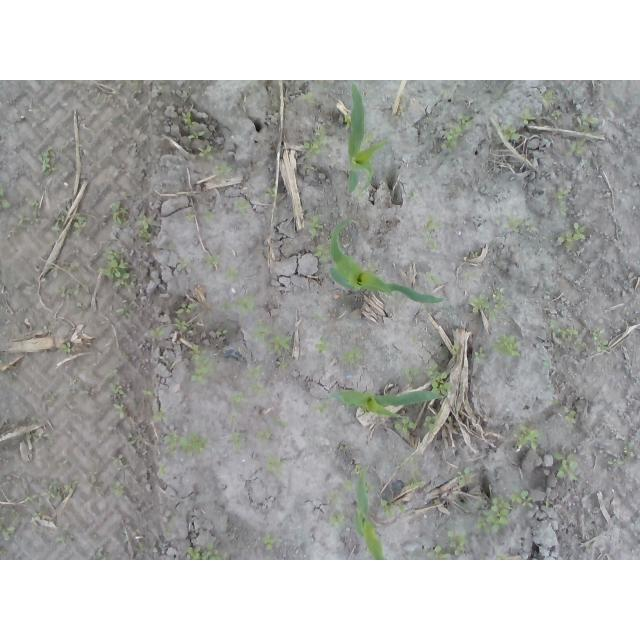Maize: (327, 217, 445, 303), (348, 82, 385, 195), (329, 387, 439, 416), (356, 478, 384, 560)
Weeds: (474, 488, 535, 536), (426, 528, 471, 560), (98, 249, 131, 289), (442, 112, 474, 153), (159, 432, 209, 457), (469, 288, 508, 320), (254, 319, 290, 353), (416, 216, 449, 253), (191, 343, 217, 386), (426, 362, 455, 394), (511, 422, 541, 452), (370, 497, 409, 520), (557, 221, 587, 249), (304, 127, 327, 160), (554, 451, 579, 481), (495, 215, 535, 233), (264, 452, 288, 481), (491, 335, 521, 358), (551, 399, 578, 424), (135, 214, 154, 248), (549, 319, 580, 338), (305, 208, 323, 240), (342, 345, 366, 369), (184, 544, 220, 560), (47, 479, 73, 501), (38, 145, 57, 175), (575, 113, 602, 134), (494, 121, 520, 141), (552, 190, 571, 217), (591, 326, 610, 352), (111, 201, 129, 228), (402, 366, 425, 387), (240, 294, 257, 319), (394, 416, 417, 434), (457, 464, 475, 487), (214, 161, 241, 175), (225, 431, 242, 453), (71, 215, 87, 238), (542, 88, 558, 111), (569, 138, 589, 155), (53, 286, 80, 298), (0, 183, 12, 210), (259, 532, 277, 550), (520, 105, 537, 124), (313, 244, 329, 264), (182, 111, 199, 129), (151, 406, 169, 422), (248, 383, 268, 397), (176, 303, 197, 316), (148, 322, 165, 338), (112, 403, 128, 420), (110, 480, 126, 497), (315, 335, 330, 353), (173, 319, 191, 334), (328, 511, 346, 526), (423, 415, 438, 433), (311, 401, 331, 414), (23, 431, 49, 441), (224, 266, 240, 282), (198, 144, 214, 160), (232, 200, 249, 215), (403, 478, 426, 489), (425, 271, 443, 285), (31, 200, 41, 225), (231, 392, 245, 409), (363, 256, 377, 273), (1, 527, 18, 541), (247, 366, 266, 378), (328, 490, 344, 504), (64, 260, 81, 273), (128, 432, 141, 449), (17, 210, 31, 225), (474, 345, 487, 361), (111, 384, 127, 397), (203, 207, 214, 225), (311, 310, 327, 322), (113, 306, 129, 318), (205, 256, 219, 269), (217, 303, 235, 313), (398, 92, 407, 112), (130, 81, 142, 96), (57, 207, 69, 222), (111, 455, 129, 465), (399, 455, 417, 465), (494, 552, 514, 561), (256, 431, 273, 441), (303, 92, 317, 104), (95, 549, 110, 560), (240, 94, 249, 112), (362, 132, 375, 144), (58, 343, 72, 354), (188, 131, 207, 139), (623, 446, 635, 458), (54, 532, 66, 544), (607, 457, 625, 465), (276, 357, 289, 368), (24, 496, 39, 505), (265, 185, 276, 197), (159, 464, 169, 477), (134, 543, 147, 553), (272, 419, 288, 427), (411, 465, 420, 479), (343, 480, 353, 492), (464, 272, 477, 281), (407, 191, 418, 201), (163, 527, 173, 538), (452, 342, 461, 354), (216, 328, 229, 336), (343, 116, 351, 129), (184, 211, 194, 221), (551, 112, 561, 121), (353, 464, 360, 476), (143, 389, 154, 396), (542, 360, 550, 369), (356, 192, 364, 201), (544, 500, 552, 509), (0, 547, 8, 555), (470, 251, 479, 258), (348, 231, 352, 246)
